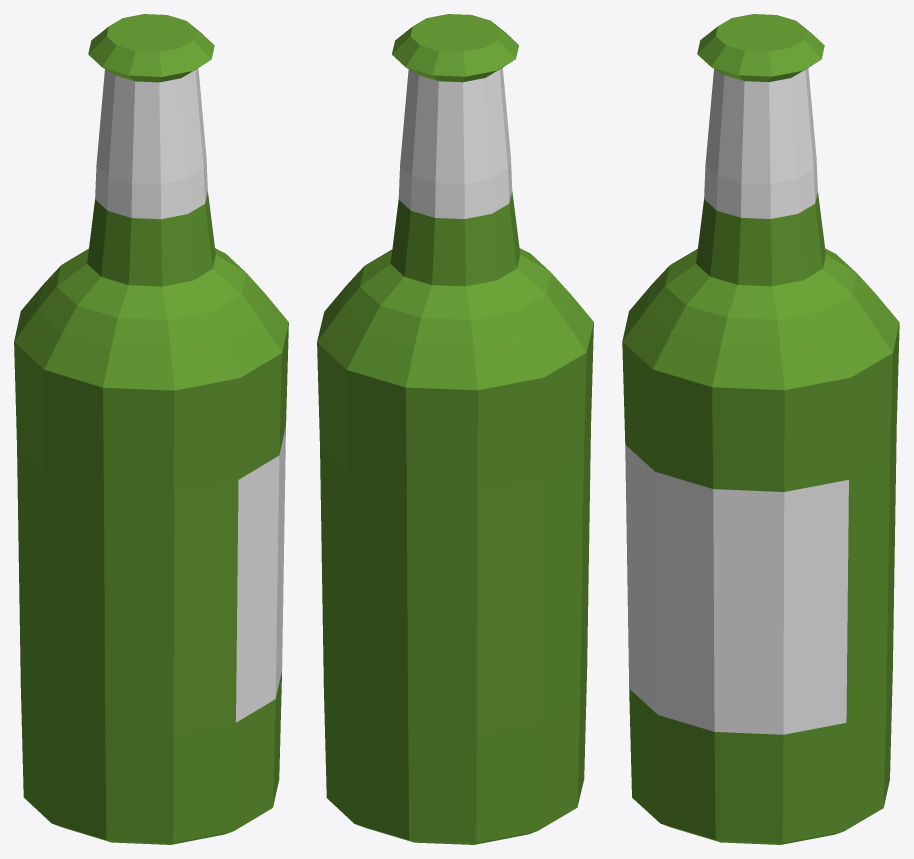
Rendered from LowPolyBottle2.glb.
The picture shows the model from 3 angles, left to right: view 1: azimuth 30°, elevation 25°; view 2: azimuth 150°, elevation 25°; view 3: azimuth 270°, elevation 25°; orthographic projection.
Parts seen in each view (by area): view 1: Cylinder.001; view 2: Cylinder.001; view 3: Cylinder.001.
Part boxes in pixels (box(x1,y1,x2,y2)): Cylinder.001: box(14, 14, 288, 844); Cylinder.001: box(317, 14, 593, 844); Cylinder.001: box(622, 14, 899, 844).
Bounding box in the file's own units: 0.6861 × 2.1 × 0.6907.
